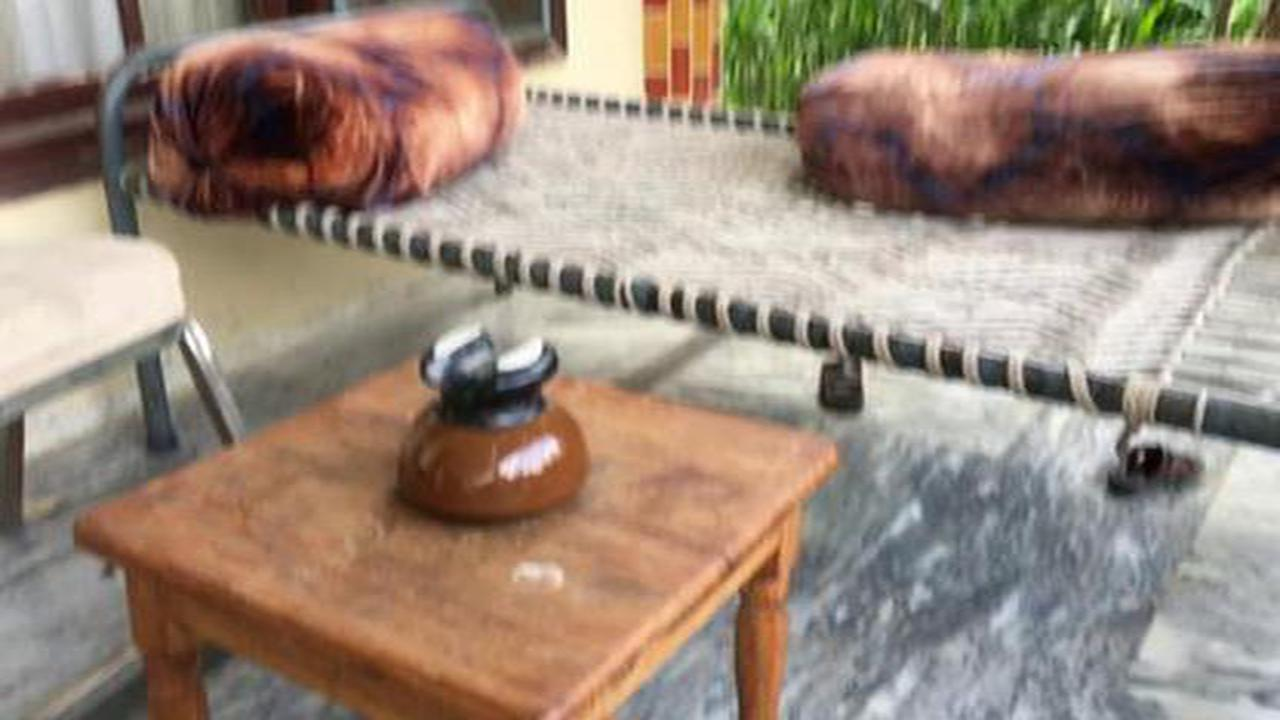insulator_pin: (382, 310, 607, 530)
